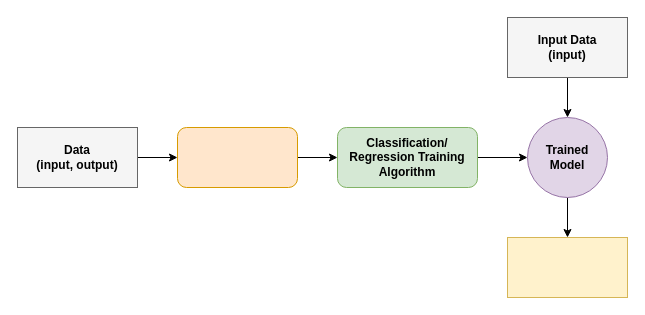
Image size: 645x315. Some labels were removed from this diagram. Each missing label, with the centre of its shape:
Feature Extraction: pixel 237 157
Predicted Data: pixel 567 267
